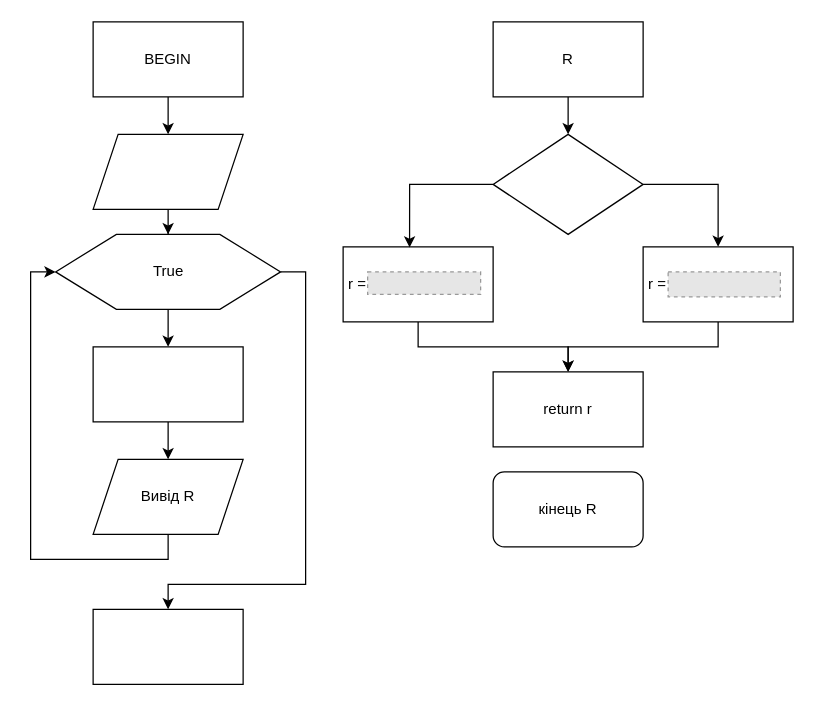
This 815x706 diagram has some shape labels left out. Grey dashed boxes stand in for pictures. Each missing label, with the centre of its shape:
"h,a" belongs at point (167, 171).
"R = F(h,x)" belongs at point (167, 384).
"x > 2" belongs at point (567, 183).
"Кінець" belongs at point (167, 646).
